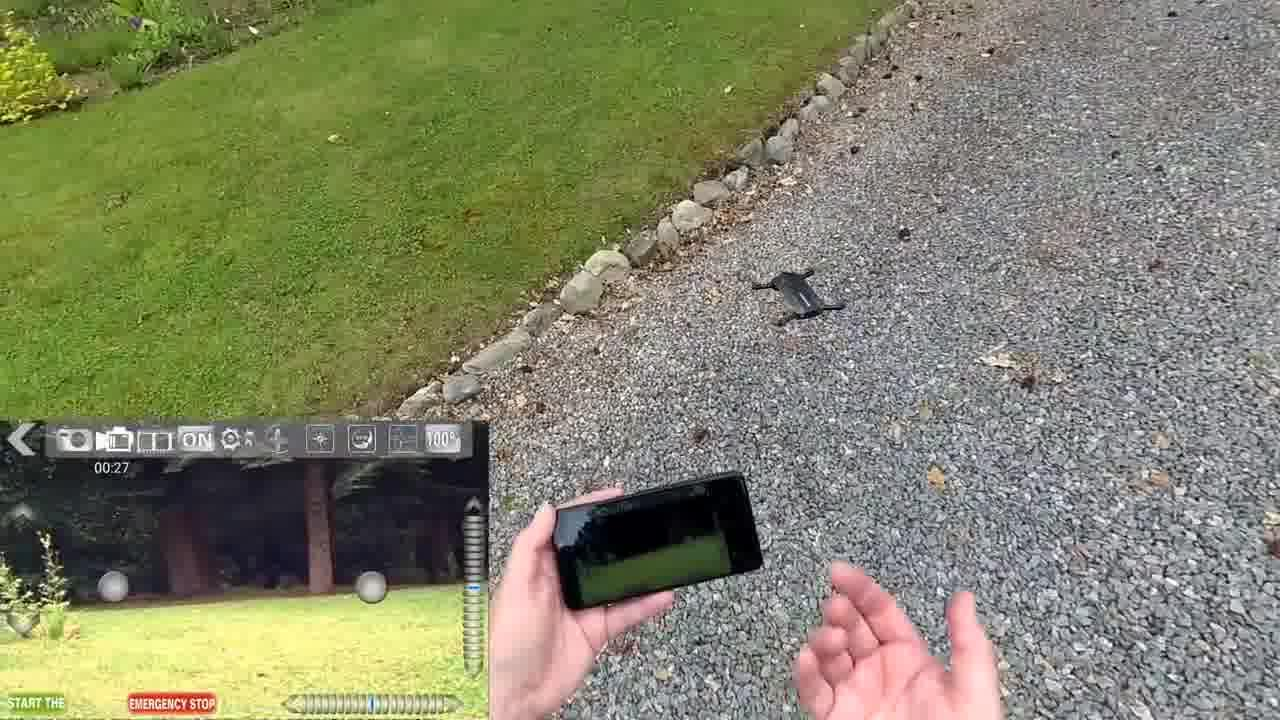drone: (746, 261, 852, 325)
